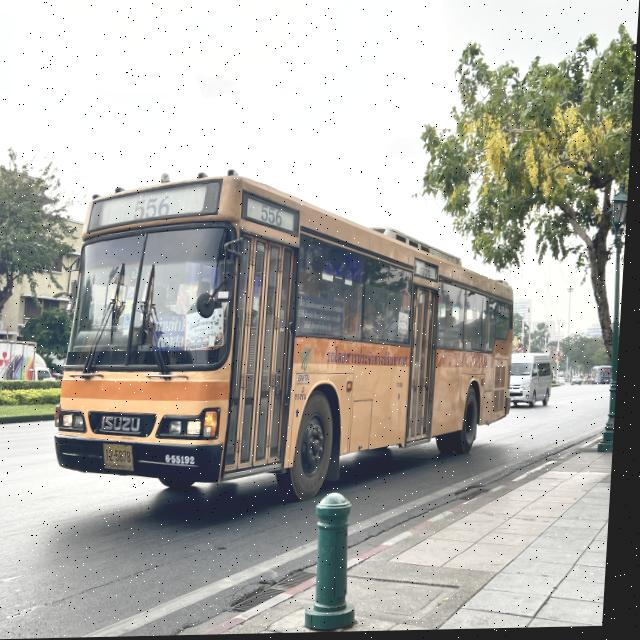BMTA-bus: (55, 166, 527, 507)
Bus-Line-Number: (128, 195, 180, 225), (259, 201, 289, 233), (420, 261, 438, 284)
Destination-Sign-Normal: (155, 312, 192, 354)
